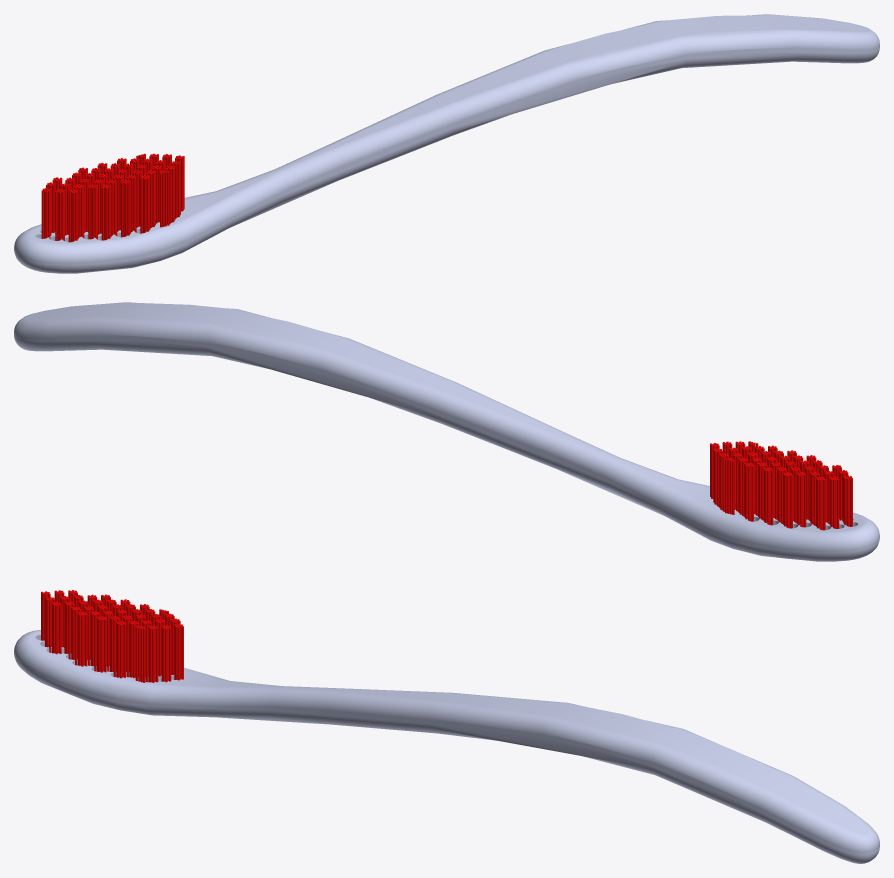
3 views of the same model, one above another, from view 1: azimuth 30°, elevation 25°; view 2: azimuth 150°, elevation 25°; view 3: azimuth 330°, elevation 25° (orthographic).
Parts seen in each view (by area): view 1: cetkica-332.001, cetkica-119.001; view 2: cetkica-332.001, cetkica-119.001; view 3: cetkica-332.001, cetkica-119.001.
Part boxes in pixels (left/top/right/bottom): cetkica-332.001: left=14, top=14, right=879, bottom=273; cetkica-119.001: left=41, top=153, right=184, bottom=242; cetkica-332.001: left=14, top=302, right=879, bottom=561; cetkica-119.001: left=710, top=441, right=852, bottom=530; cetkica-332.001: left=14, top=630, right=879, bottom=863; cetkica-119.001: left=41, top=590, right=183, bottom=682.
Bounding box in the file's own units: 0.9971 × 0.1051 × 0.094.
